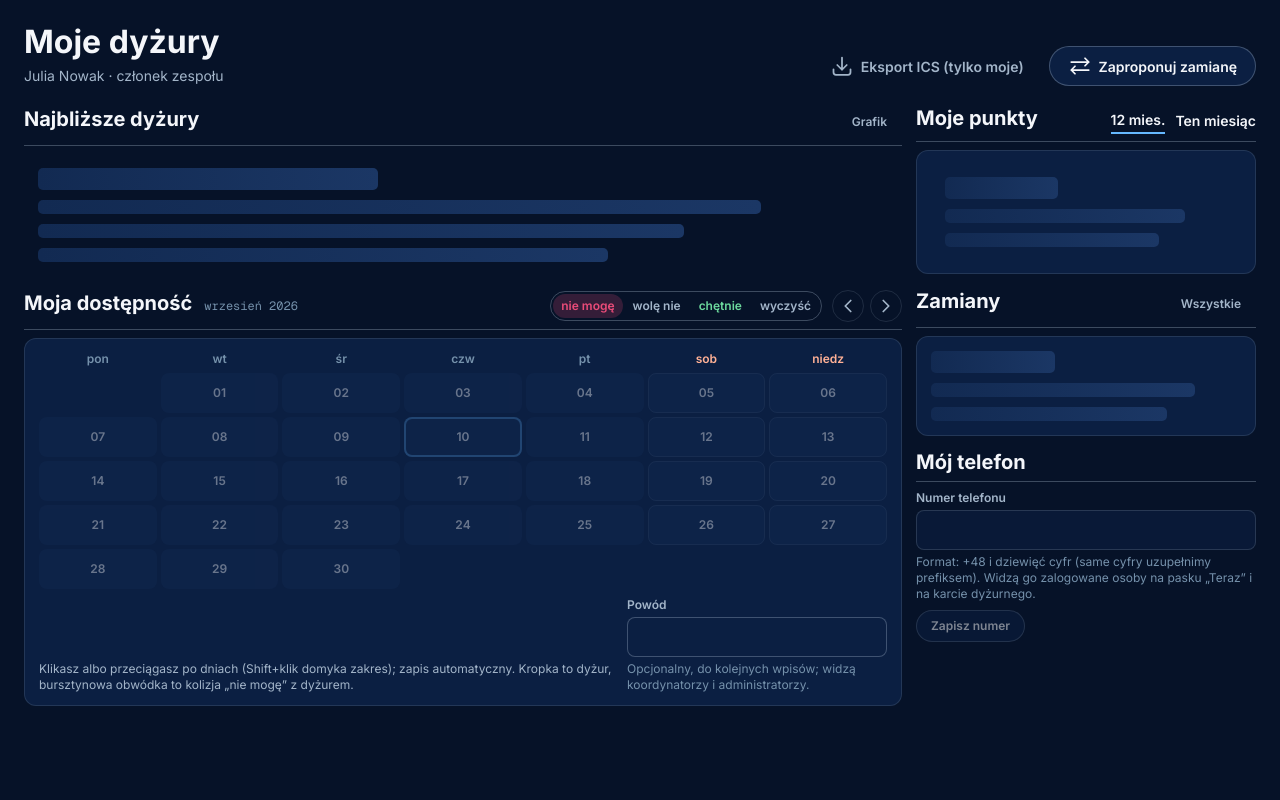
Scenario: MineScreen ICS › keeps the subscription when the revocation is cancelled
The width and height of the screenshot is (1280, 800).
Click the button "Eksport ICS (tylko moje)": (927, 66) [811,46,1043,86]
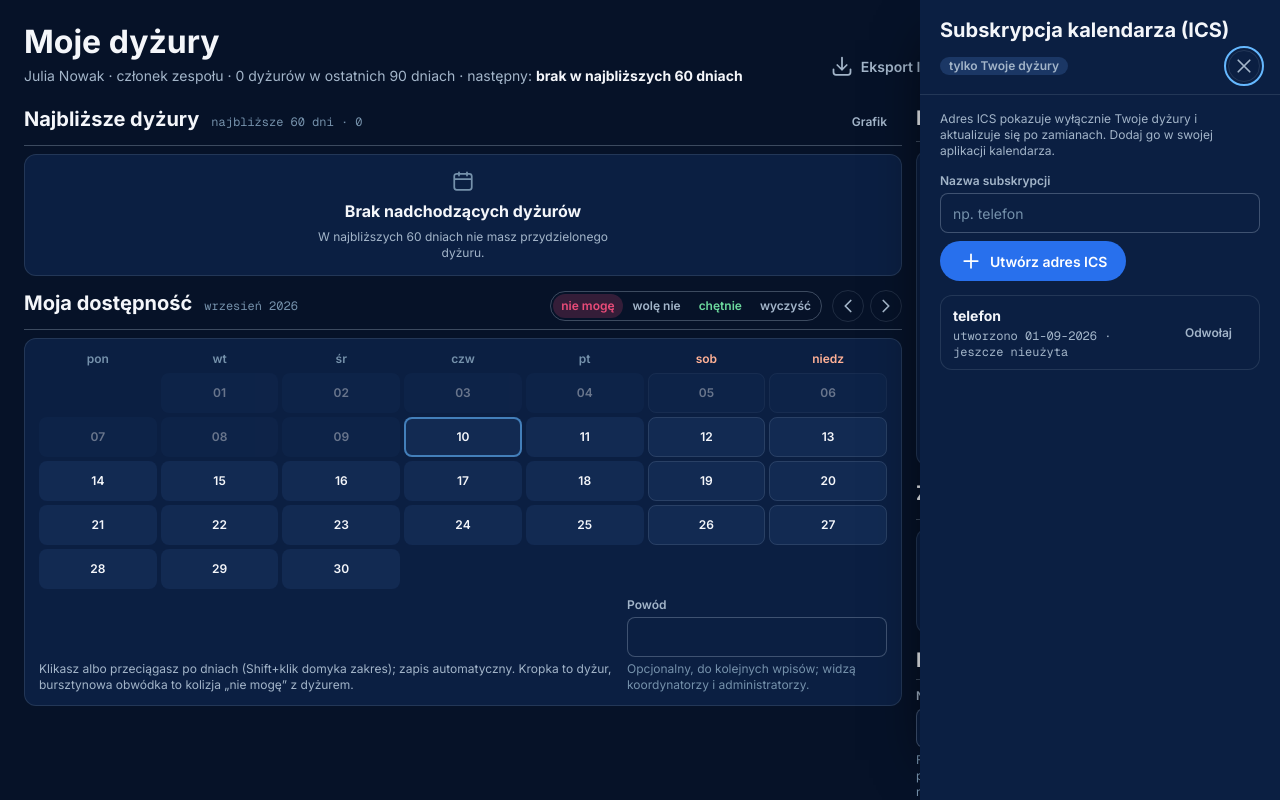
Click the button "Odwołaj": (1208, 332) [1170,316,1247,348]
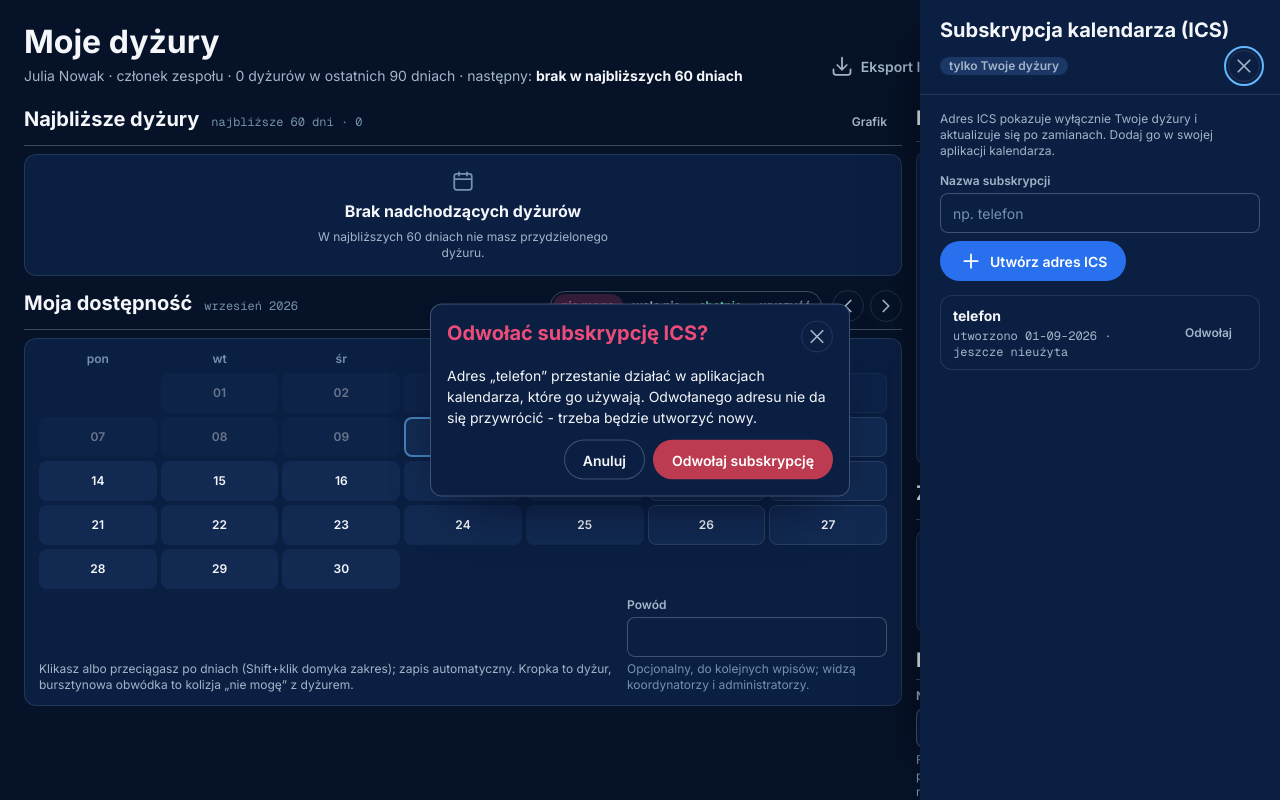
Expected: the text "Adres „telefon” przestanie działać" is shown, [447,366,826,426]
Click the button "Anuluj": (604, 460) [564,440,645,480]
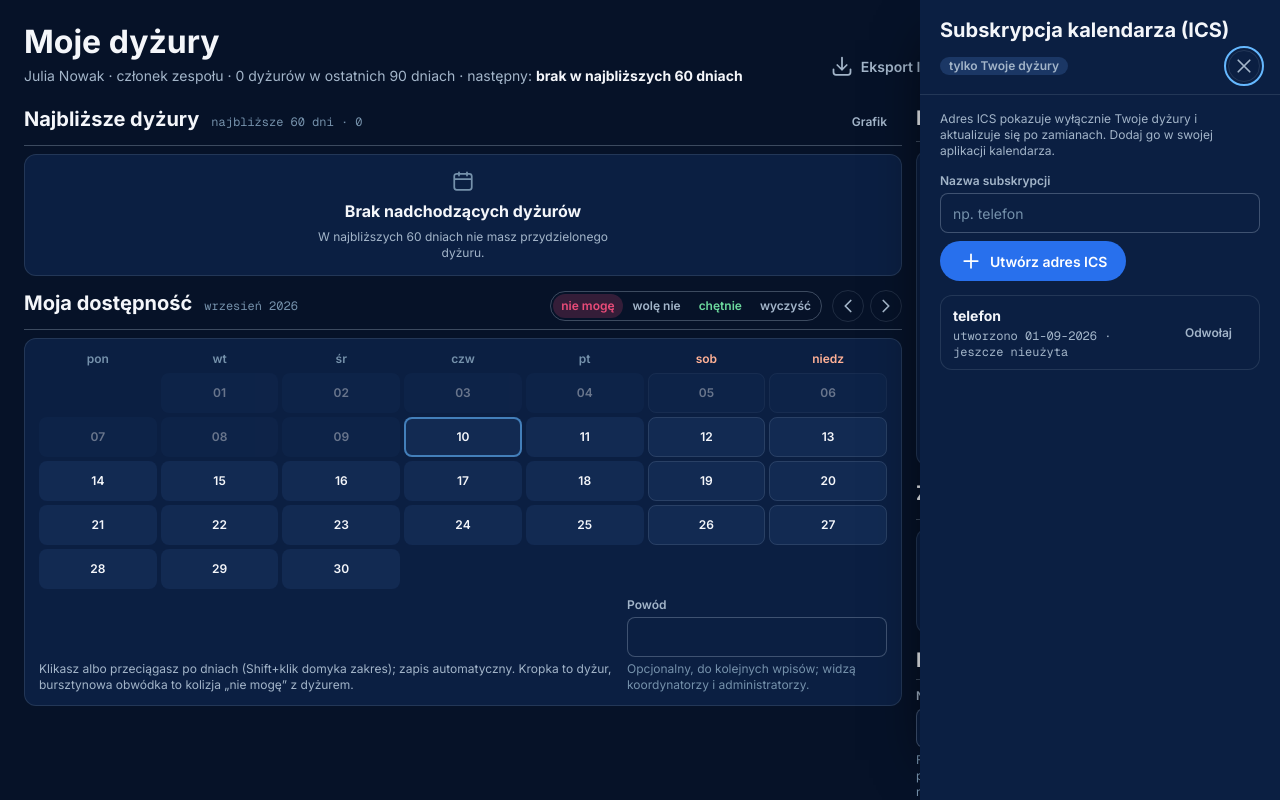
Expected: the heading "Odwołać subskrypcję ICS?" is gone
